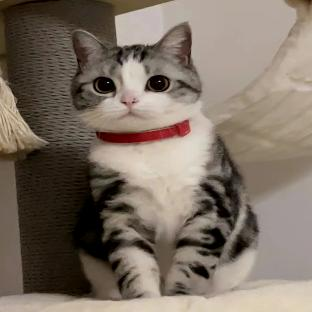Animal: (72, 23, 259, 299)
